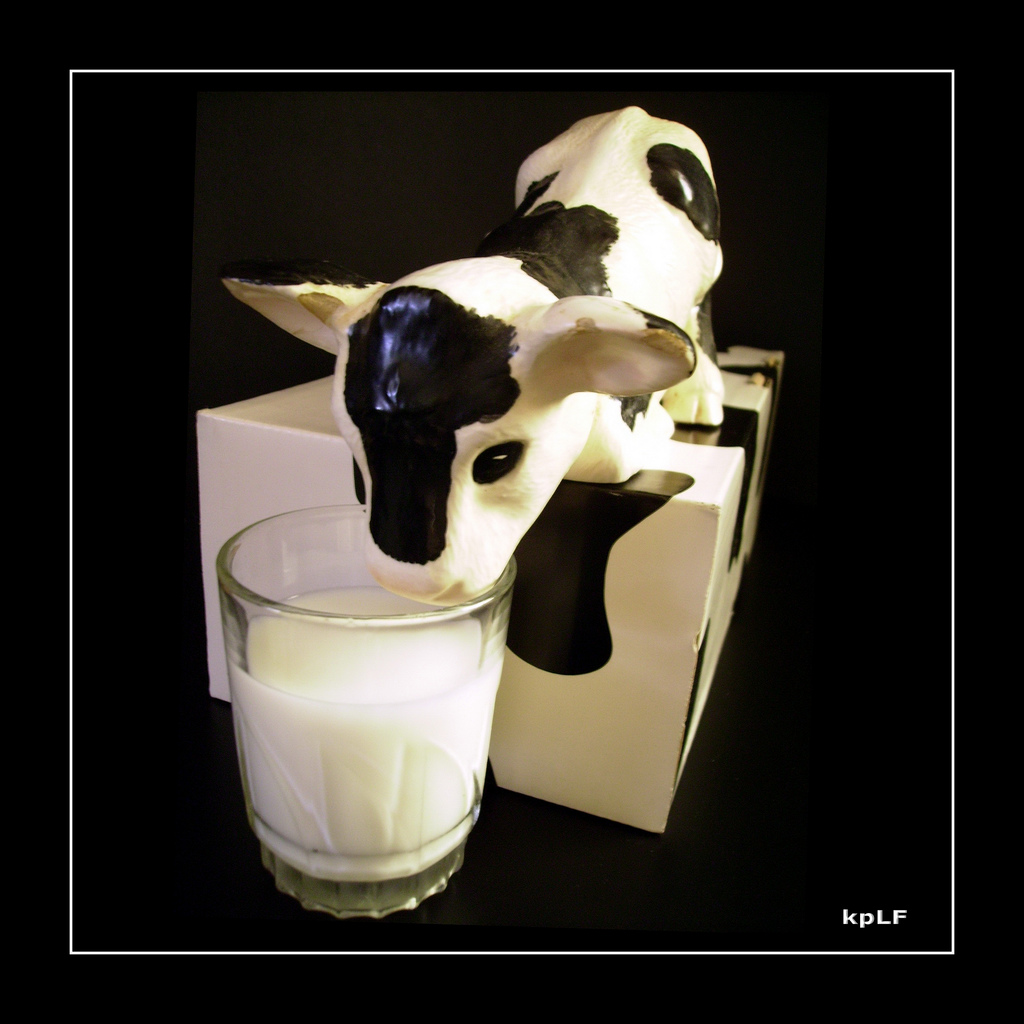glass of milk: (219, 532, 511, 919)
